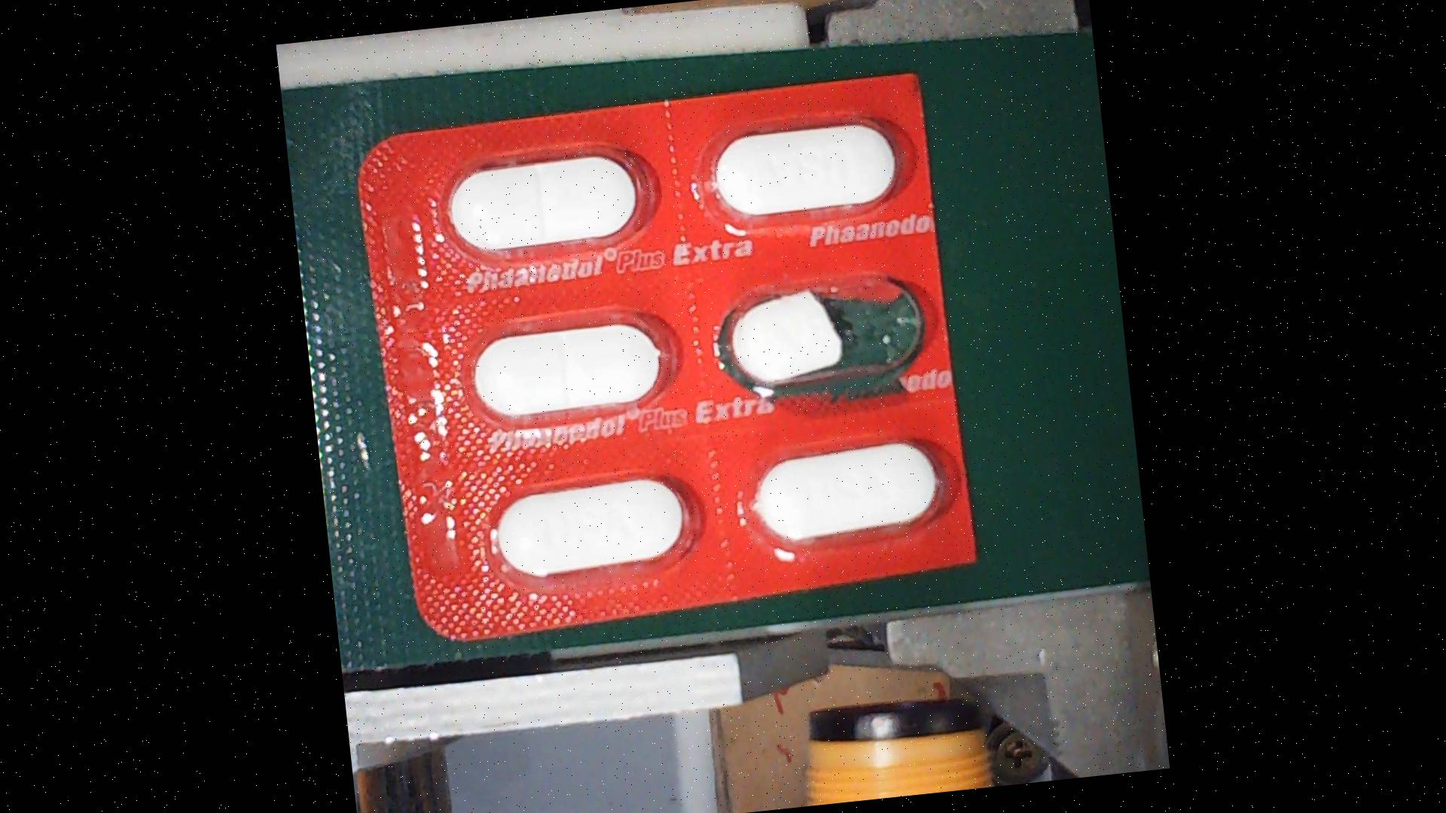Full: (716, 417, 958, 572), (447, 292, 689, 447), (467, 449, 709, 604), (680, 95, 922, 249), (428, 127, 670, 281)
Partial: (698, 257, 940, 412)
